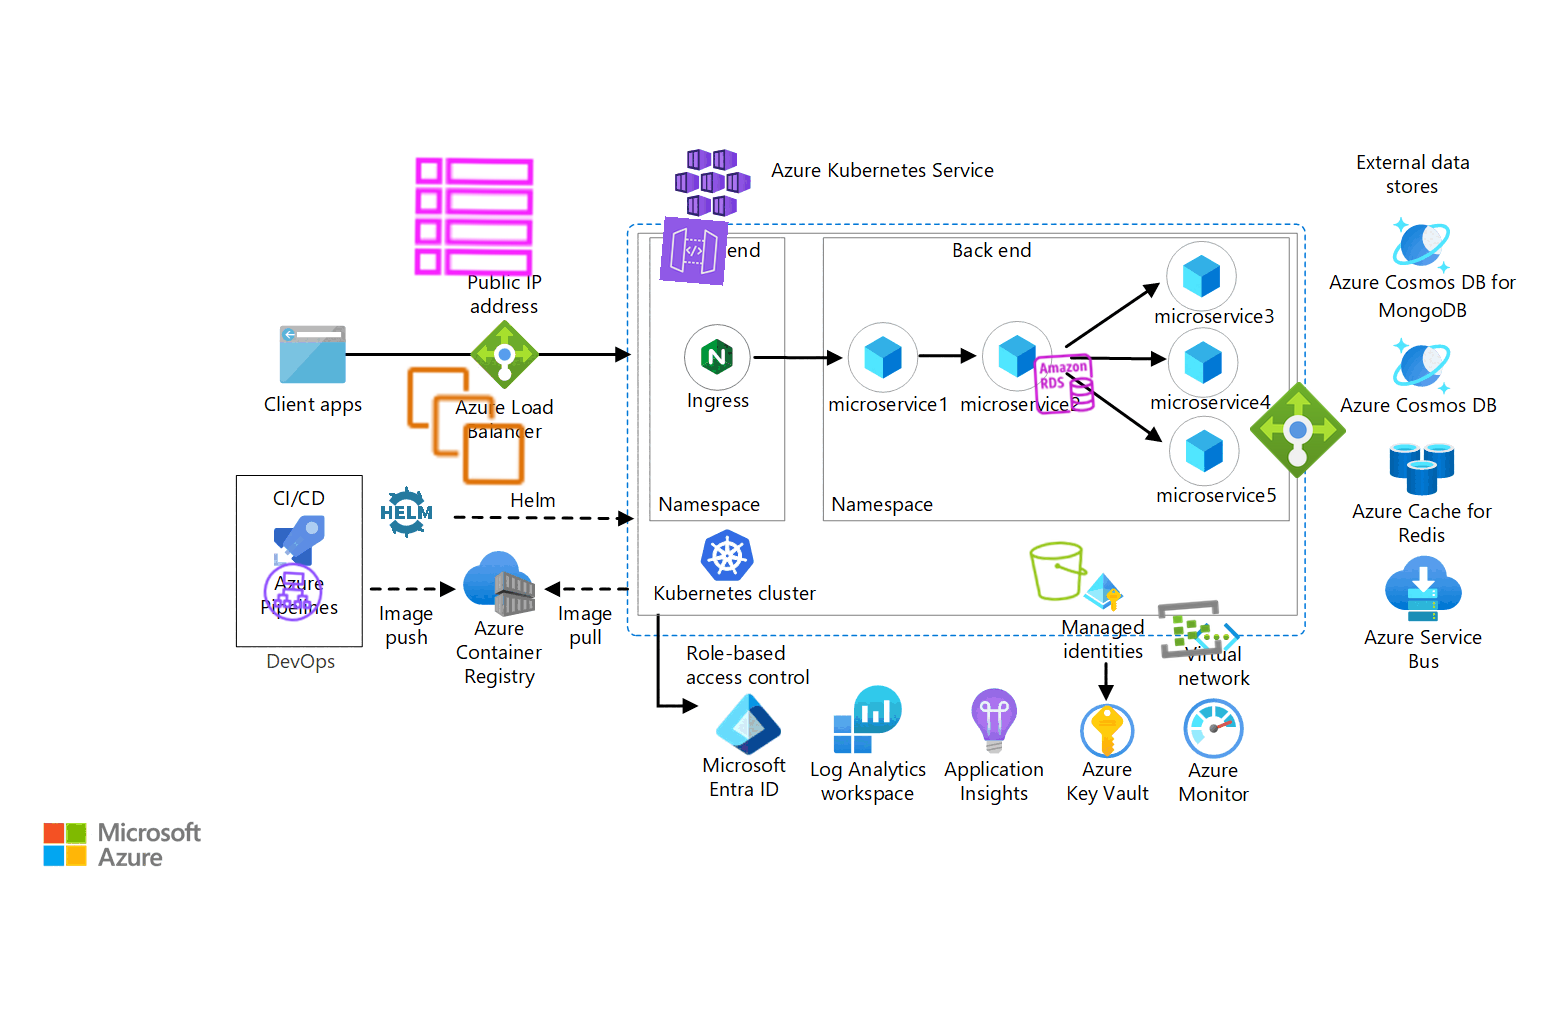aws_amazon_api_gateway: (659, 215, 729, 287)
aws_aurora_amazon_rds_instance: (1030, 350, 1098, 418)
aws_dynamodb_table: (409, 152, 538, 282)
aws_ec2_instances: (401, 361, 530, 491)
aws_elastic_load_balancing_application_load_balancer: (259, 558, 327, 626)
aws_simple_storage_service_s3_standard: (1024, 536, 1094, 606)
azure_event_hubs: (1155, 594, 1225, 664)
azure_load_balancers: (1248, 381, 1349, 480)
